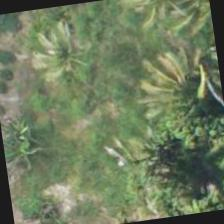Kelapa_Sawit: (10, 1, 110, 92), (135, 42, 223, 143)
